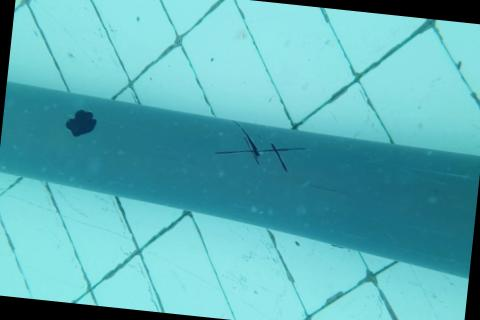kebocoran: (64, 107, 99, 140)
keretakan: (212, 120, 311, 172)
